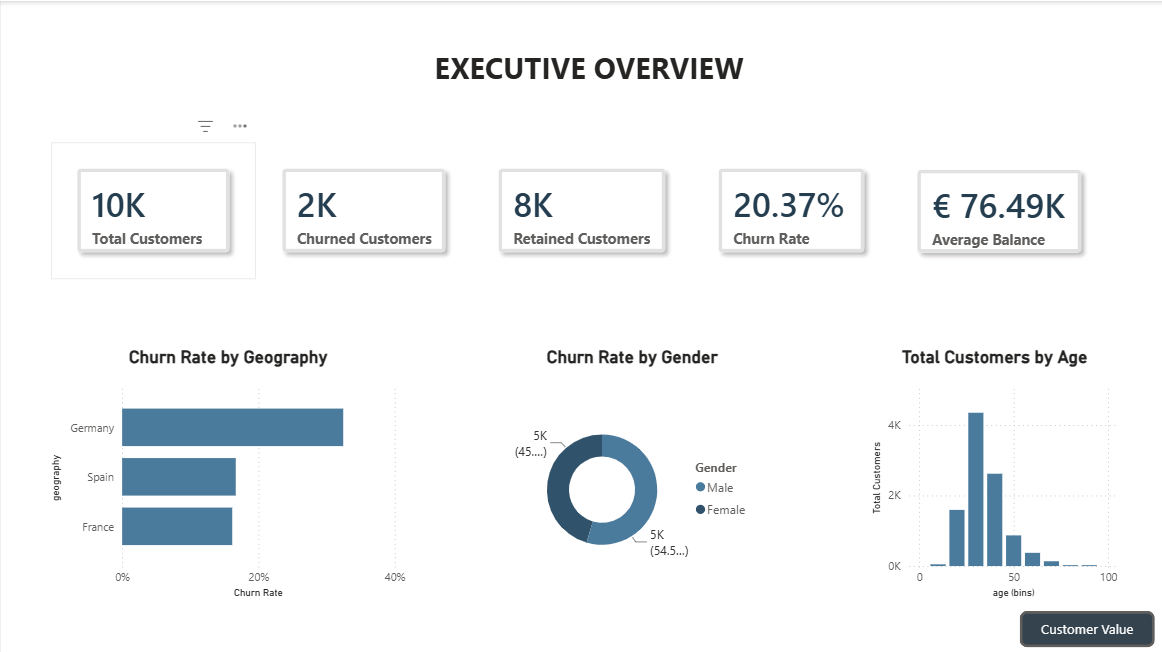

This screenshot's page, from the dashboard's own definition file:
{"tool":"powerbi","page":{"name":"Executive Overview","canvas":[1280,720],"ordinal":0},"visuals":[{"type":"cardVisual","fields":{"Data":["_Measures.Total Customers"]},"box":[54.9,155.6,225,150.9],"z":0},{"type":"cardVisual","fields":{"Data":["_Measures.Churned Customers"]},"box":[279.4,155.3,237.4,150.9],"z":1000},{"type":"cardVisual","fields":{"Data":["_Measures.Retained Customers"]},"box":[517.3,155.6,241.5,150.9],"z":2000},{"type":"cardVisual","fields":{"Data":["_Measures.Churn Rate"]},"box":[758.8,155.6,218.2,150.9],"z":3000},{"type":"cardVisual","fields":{"Data":["_Measures.Average Balance"]},"box":[977,157,238.8,149.6],"z":4000},{"type":"textbox","box":[422.6,46.7,446,70],"z":5000},{"type":"clusteredBarChart","title":"Churn Rate by Geography","fields":{"Category":["customers.geography"],"Y":["_Measures.Churn Rate"]},"box":[49.4,380.1,400,280],"z":6000},{"type":"donutChart","title":"Churn Rate by Gender","fields":{"Category":["customers.gender"],"Y":["_Measures.Total Customers"]},"box":[553,380.1,280,280],"z":7000},{"type":"clusteredColumnChart","title":"Total Customers by Age","fields":{"Y":["_Measures.Total Customers"],"Category":["customers.age (bins)"]},"box":[950.9,380.1,280,280],"z":8000},{"type":"actionButton","box":[1118.4,669.6,148.2,39.8],"z":9000}]}

Visuals, with their boxes in screenshot pixels (x1, y1, x2, y2), scaled from the page's 1280x720 canvas onto the 1162x652 screenshot:
cardVisual - _Measures.Total Customers: [x1=50, y1=141, x2=254, y2=278]
cardVisual - _Measures.Churned Customers: [x1=254, y1=141, x2=469, y2=277]
cardVisual - _Measures.Retained Customers: [x1=470, y1=141, x2=689, y2=278]
cardVisual - _Measures.Churn Rate: [x1=689, y1=141, x2=887, y2=278]
cardVisual - _Measures.Average Balance: [x1=887, y1=142, x2=1104, y2=278]
textbox: [x1=384, y1=42, x2=789, y2=106]
"Churn Rate by Geography" clusteredBarChart: [x1=45, y1=344, x2=408, y2=598]
"Churn Rate by Gender" donutChart: [x1=502, y1=344, x2=756, y2=598]
"Total Customers by Age" clusteredColumnChart: [x1=863, y1=344, x2=1117, y2=598]
actionButton: [x1=1015, y1=606, x2=1150, y2=642]
